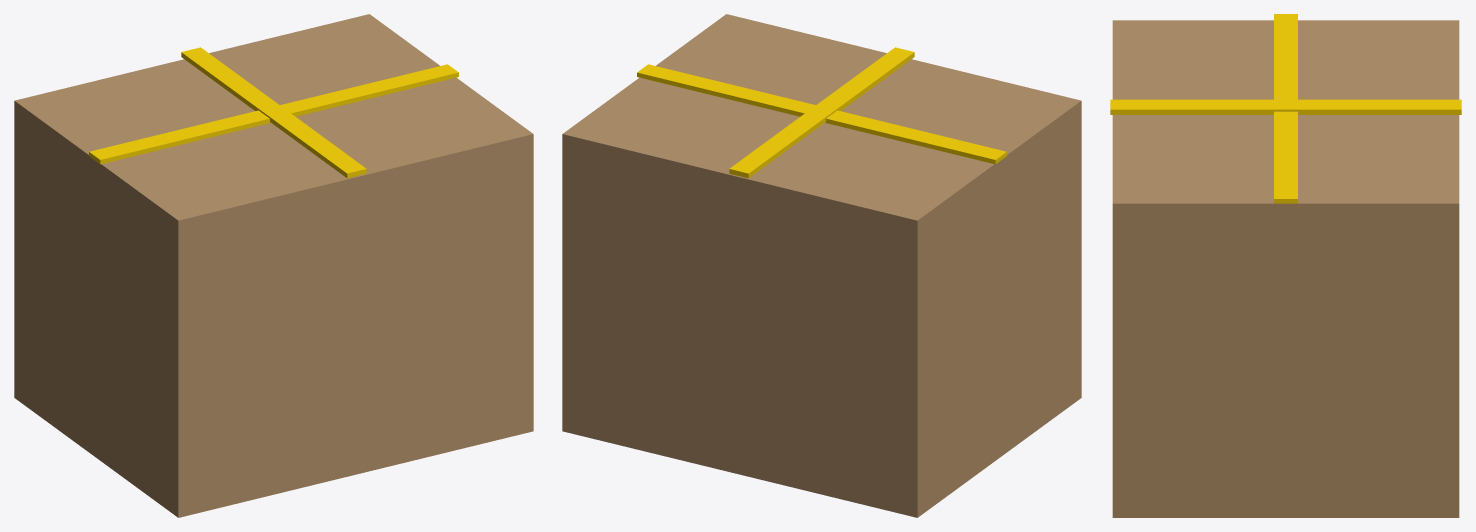
The picture shows the model from 3 angles, left to right: view 1: azimuth 30°, elevation 25°; view 2: azimuth 150°, elevation 25°; view 3: azimuth 270°, elevation 25°; orthographic projection. The views are drawn at different scales.
Visible parts, largest first — view 1: cardboard_body, tape_long, tape_cross; view 2: cardboard_body, tape_long, tape_cross; view 3: cardboard_body, tape_cross, tape_long.
Boxes of the visible parts, x1=… form: cardboard_body: x1=14, y1=14, x2=533, y2=517; tape_long: x1=89, y1=64, x2=458, y2=164; tape_cross: x1=181, y1=47, x2=366, y2=178; cardboard_body: x1=562, y1=14, x2=1081, y2=517; tape_long: x1=637, y1=64, x2=1006, y2=164; tape_cross: x1=729, y1=47, x2=914, y2=178; cardboard_body: x1=1112, y1=20, x2=1459, y2=517; tape_cross: x1=1110, y1=99, x2=1461, y2=114; tape_long: x1=1274, y1=14, x2=1297, y2=203.
Bounding box in the file's own units: 1.01 × 0.8185 × 0.81.
